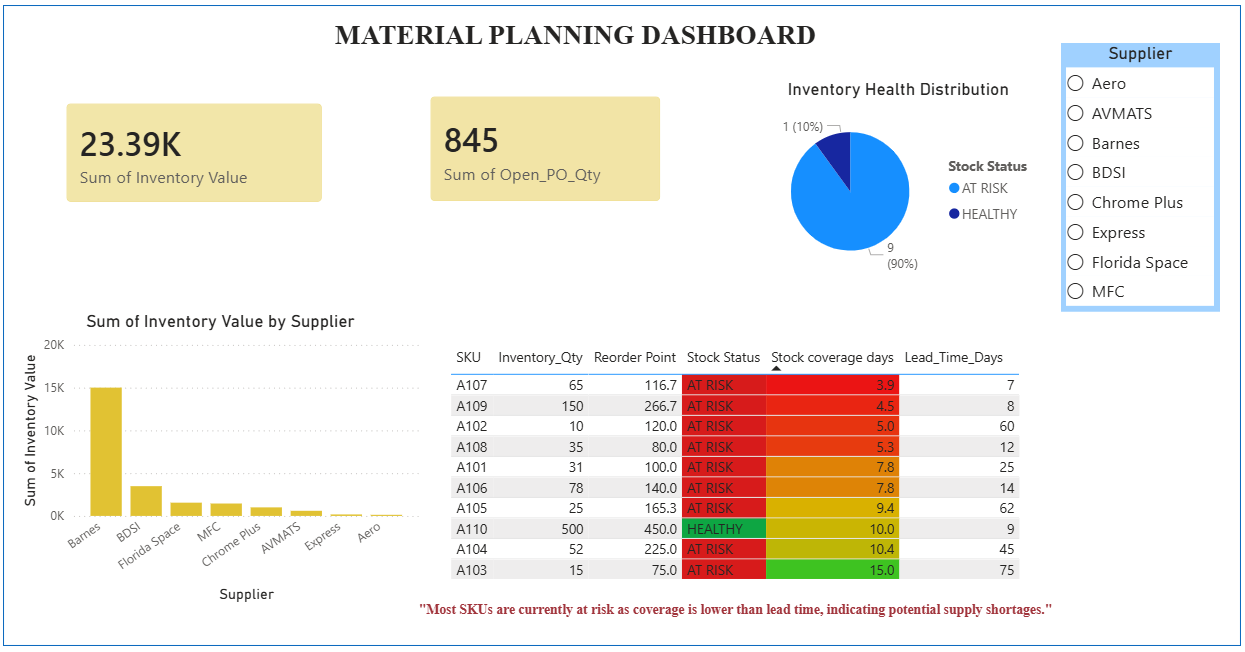

The page's visual inventory and layout, read from the dashboard file:
{"tool":"powerbi","page":{"name":"Page 1","canvas":[1280,720],"ordinal":0},"visuals":[{"type":"shape","box":[50.9,76.9,1203.1,610.6],"z":0},{"type":"cardVisual","fields":{"Data":["Sum(Sheet1.Inventory Value)"]},"box":[60,137.9,283.8,129.9],"z":1000},{"type":"cardVisual","fields":{"Data":["CountNonNull(Sheet1.Open_PO_Qty)"]},"box":[389.7,133.9,258.8,136.9],"z":2000},{"type":"tableEx","fields":{"Values":["Sheet1.SKU","Sheet1.Inventory_Qty","Sheet1.Reorder Point","Sheet1.Stock Status","Sheet1.Stock coverage days","Sheet1.Lead_Time_Days"]},"box":[467.6,402.7,567.6,247.8],"z":3000},{"type":"pieChart","fields":{"Category":["Sheet1.Stock Status"],"Y":["CountNonNull(Sheet1.Stock Status)"]},"box":[762.1,147,254.4,242],"z":4000},{"type":"columnChart","fields":{"Category":["Sheet1.Supplier"],"Y":["Sum(Sheet1.Inventory Value)"]},"box":[51,373.7,396.7,288.8],"z":5000},{"type":"listSlicer","fields":{"Values":["Sheet1.Supplier"]},"box":[1068.2,111.9,154.9,261.8],"z":6000},{"type":"textbox","box":[263.5,83.7,663.7,56.5],"z":6001}]}

Visuals, with their boxes on the page's 1280x720 design canvas (x1, y1, x2, y2). These are canvas units, not pixel positions in the 1245x652 screenshot, which may show the page scaled, cropped or inside an application window:
shape: left=51, top=77, right=1254, bottom=688
cardVisual - Sum(Sheet1.Inventory Value): left=60, top=138, right=344, bottom=268
cardVisual - CountNonNull(Sheet1.Open_PO_Qty): left=390, top=134, right=648, bottom=271
tableEx - Sheet1.SKU x Sheet1.Inventory_Qty: left=468, top=403, right=1035, bottom=650
pieChart - Sheet1.Stock Status x CountNonNull(Sheet1.Stock Status): left=762, top=147, right=1016, bottom=389
columnChart - Sheet1.Supplier x Sum(Sheet1.Inventory Value): left=51, top=374, right=448, bottom=662
listSlicer - Sheet1.Supplier: left=1068, top=112, right=1223, bottom=374
textbox: left=264, top=84, right=927, bottom=140
